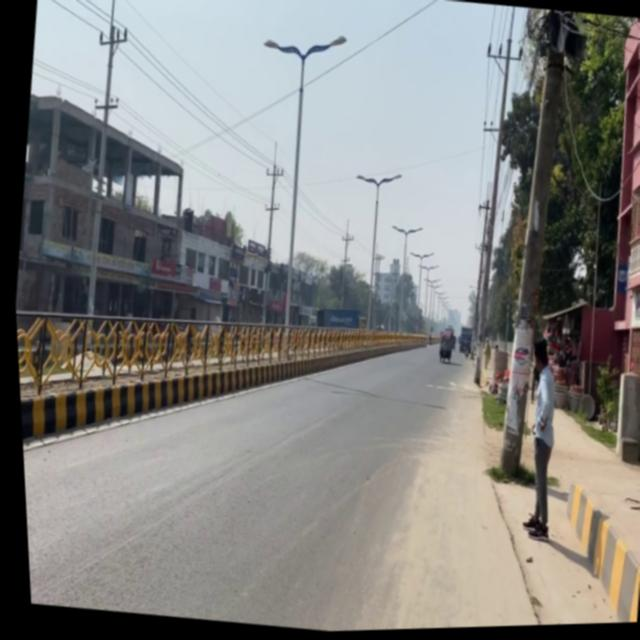Fallen-tree: (432, 339, 449, 366)
Garbage-bin: (504, 338, 566, 545)
Light-pole: (473, 11, 588, 483)
Pole: (12, 293, 287, 477)
Pothole: (438, 341, 640, 630)
